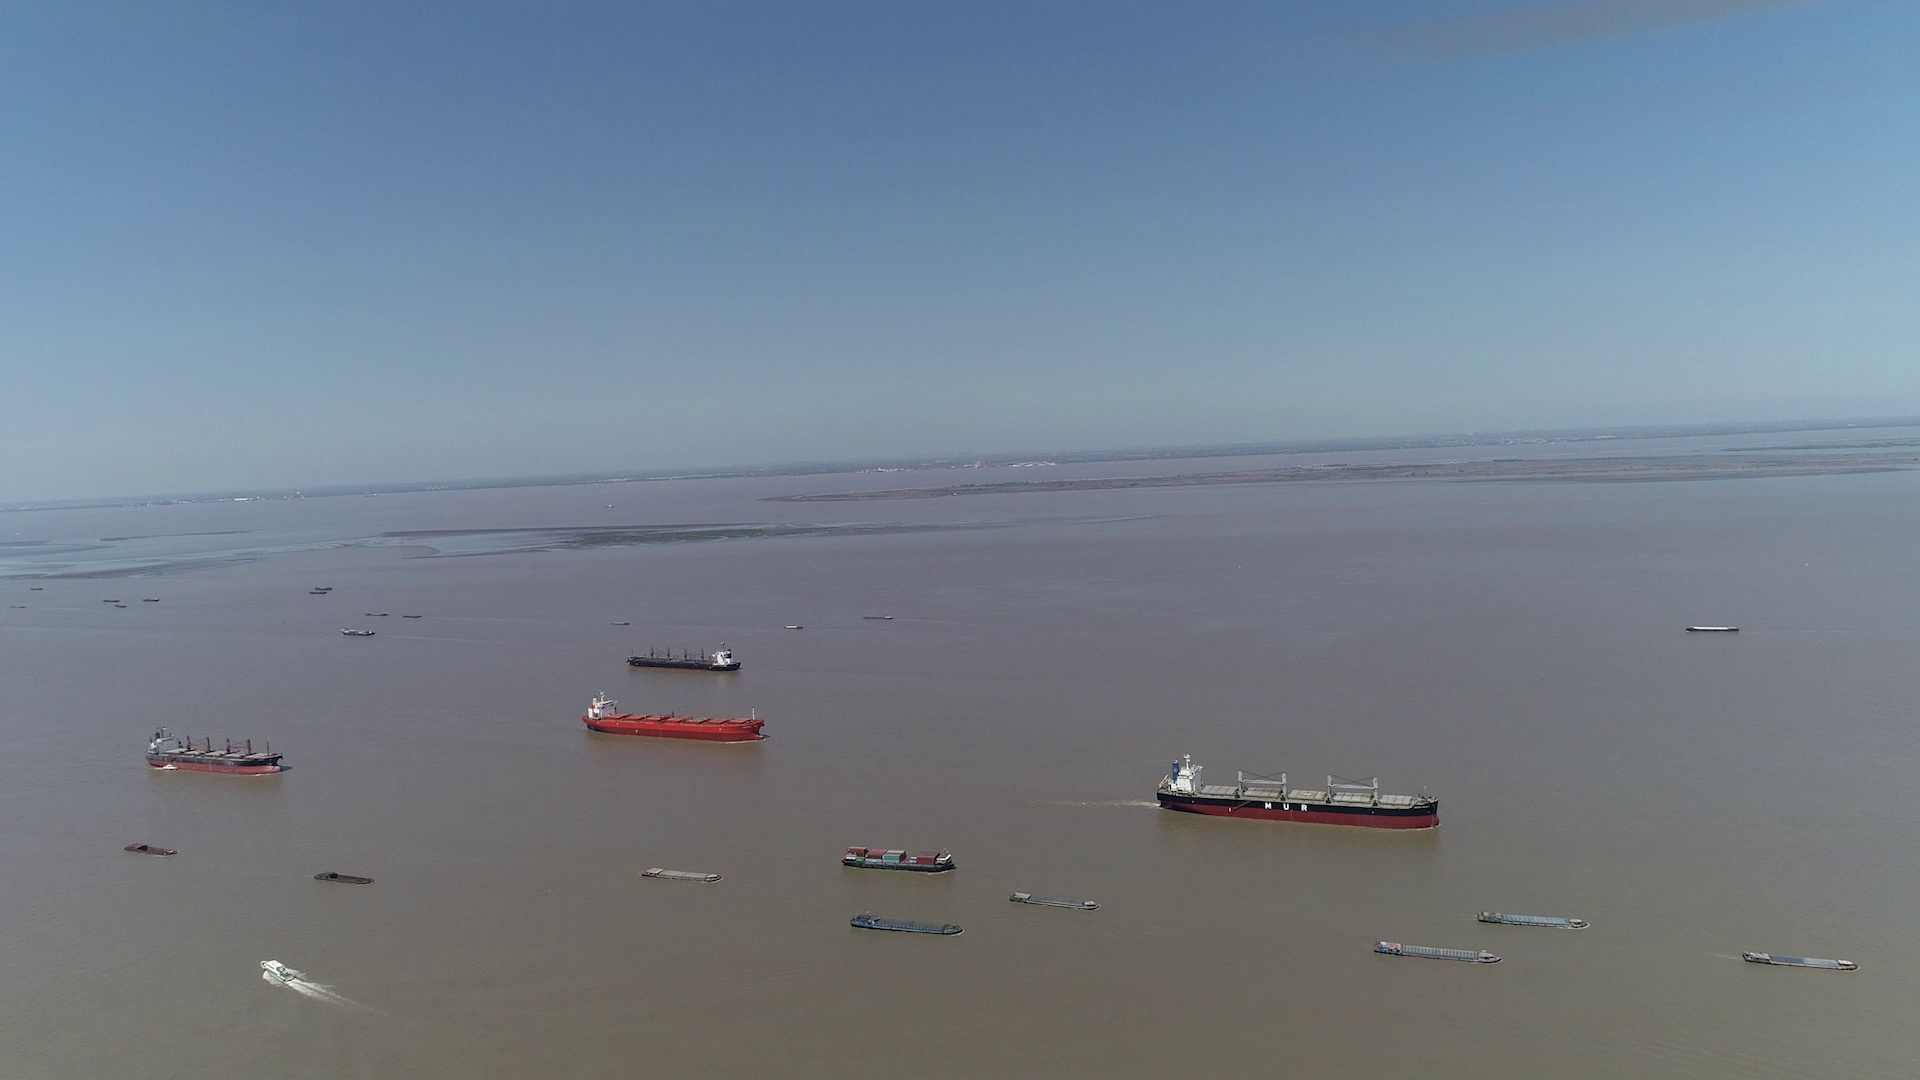ship: (1156, 753, 1440, 828), (582, 694, 764, 741), (145, 725, 284, 774), (626, 644, 741, 671), (841, 844, 956, 872), (1374, 939, 1503, 963), (1741, 949, 1857, 971), (851, 914, 964, 935), (1482, 910, 1586, 930), (1011, 890, 1102, 909), (644, 866, 723, 881), (316, 872, 376, 885), (258, 959, 291, 981), (123, 843, 175, 855), (1688, 624, 1738, 632), (340, 628, 378, 636)
